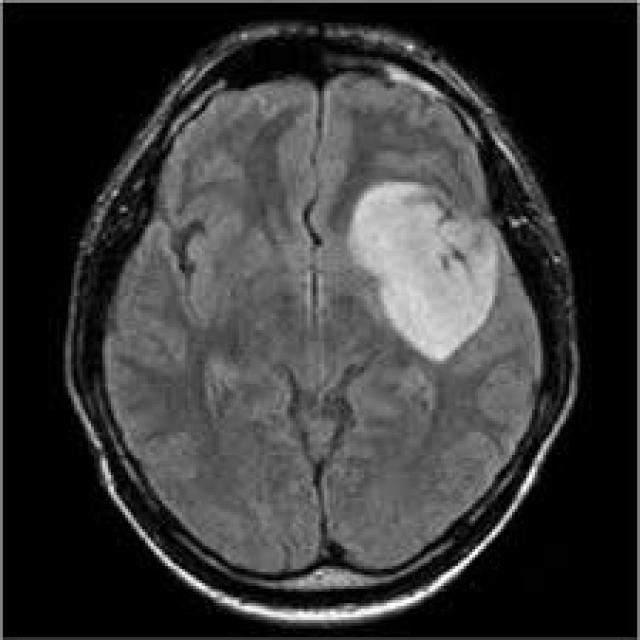Tumor-Cell: (334, 177, 508, 347)
